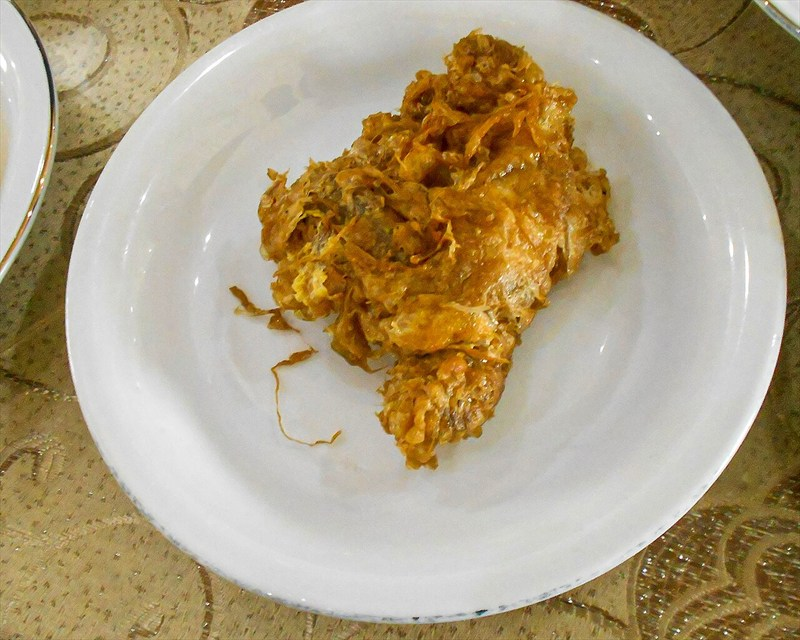Ayam Goreng: (67, 52, 728, 470)
